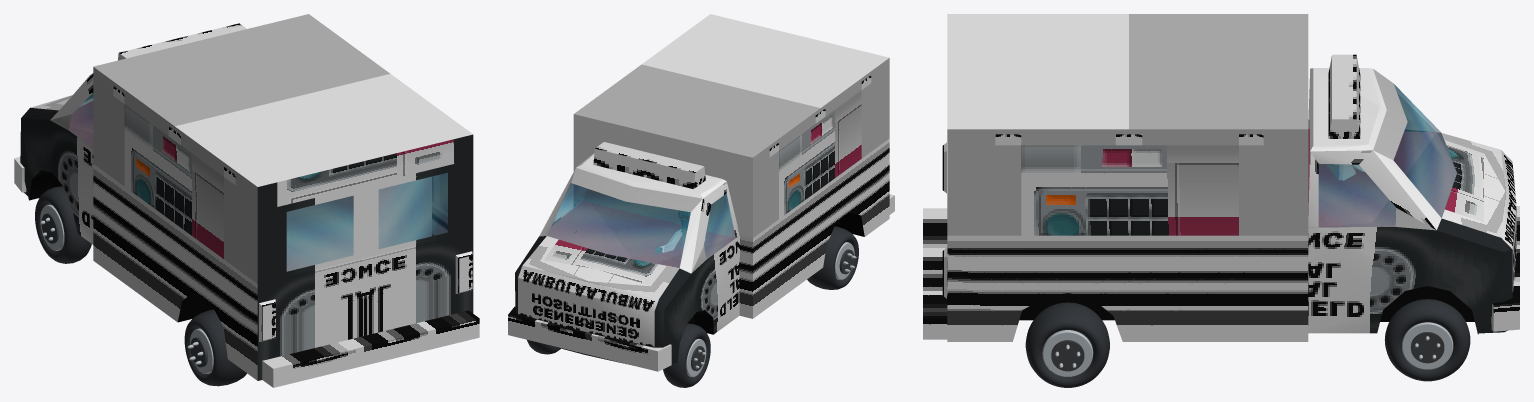
The model's file is car-ambul.glb.
3 renders of one model, left to right at view 1: azimuth 30°, elevation 25°; view 2: azimuth 150°, elevation 25°; view 3: azimuth 270°, elevation 25°, orthographic. The views are drawn at different scales.
Parts seen in each view (by area): view 1: ambulShape, windShape, Rounded tire.001, Rounded tire.002, ambulShape.001, Alloy rim.002, Alloy rim.001; view 2: ambulShape, windShape, ambulShape.001, Rounded tire.001, Rounded tire.002, Alloy rim.002; view 3: ambulShape, windShape, ambulShape.001, Rounded tire, Rounded tire.003, Alloy rim.003, Alloy rim, Rim recess.007, Rim recess.001.
Part boxes in pixels (bbox=[...]): ambulShape: bbox=[14, 14, 479, 387]; windShape: bbox=[69, 93, 447, 271]; Rounded tire.001: bbox=[184, 309, 246, 386]; Rounded tire.002: bbox=[35, 186, 91, 263]; ambulShape.001: bbox=[69, 101, 92, 147]; Alloy rim.002: bbox=[40, 204, 64, 250]; Alloy rim.001: bbox=[190, 328, 213, 373]; ambulShape: bbox=[508, 14, 894, 371]; windShape: bbox=[547, 183, 735, 267]; ambulShape.001: bbox=[547, 201, 735, 267]; Rounded tire.001: bbox=[807, 226, 858, 289]; Rounded tire.002: bbox=[663, 323, 710, 387]; Alloy rim.002: bbox=[686, 338, 706, 377]; ambulShape: bbox=[923, 14, 1519, 341]; windShape: bbox=[1318, 84, 1456, 227]; ambulShape.001: bbox=[1308, 128, 1456, 226]; Rounded tire: bbox=[1025, 302, 1109, 387]; Rounded tire.003: bbox=[1384, 299, 1470, 381]; Alloy rim.003: bbox=[1402, 322, 1453, 369]; Alloy rim: bbox=[1042, 330, 1093, 376]; Rim recess.007: bbox=[1410, 332, 1444, 363]; Rim recess.001: bbox=[1051, 340, 1084, 371].
Bounding box in the file's own units: 2.83 × 2.75 × 5.64.
Materials: 6 (3 with a texture image).
